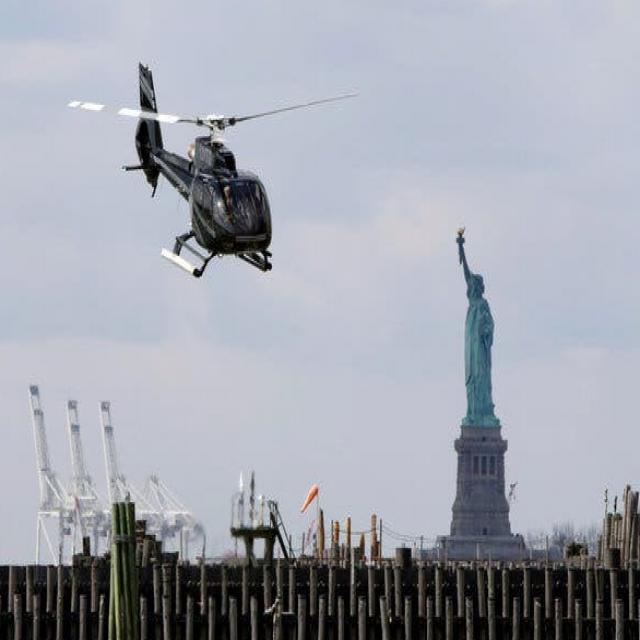helicopter: (64, 65, 363, 285)
